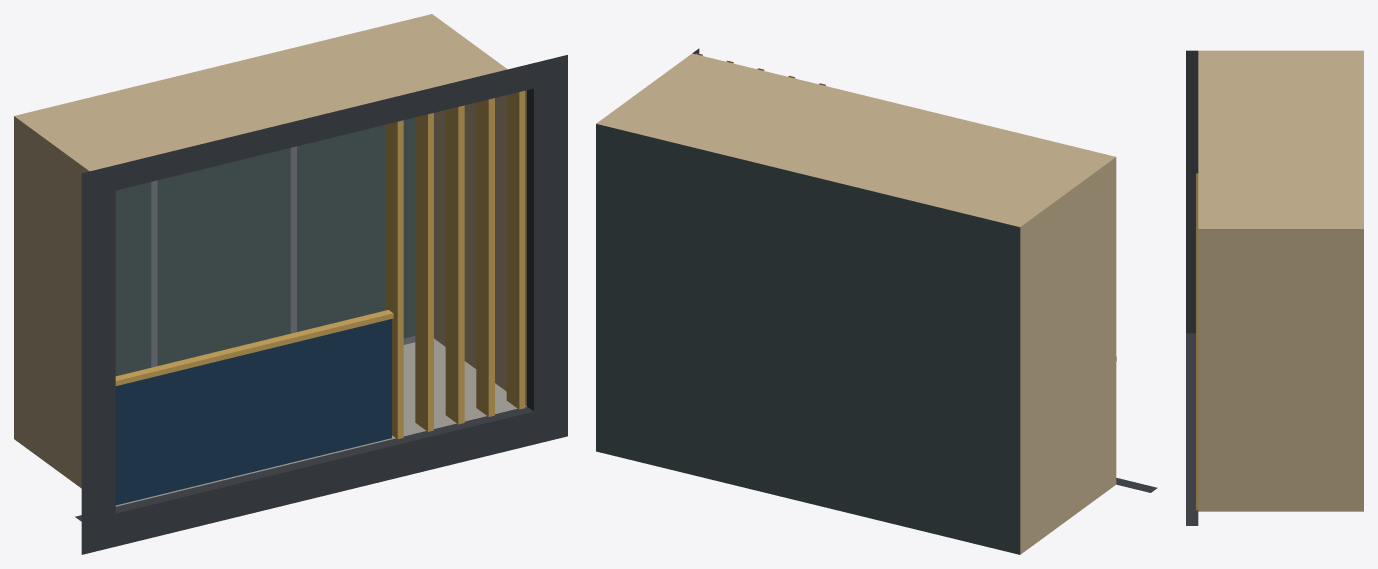
Rendered from mid-w1.fbx.
3 renders of one model, left to right at view 1: azimuth 30°, elevation 25°; view 2: azimuth 150°, elevation 25°; view 3: azimuth 270°, elevation 25°, orthographic. The views are drawn at different scales.
Parts seen in each view (by area): view 1: a2019/750/mid-w1; view 2: a2019/750/mid-w1; view 3: a2019/750/mid-w1.
Part boxes in pixels (<box>): a2019/750/mid-w1: <box>14,14,567,554</box>; a2019/750/mid-w1: <box>596,48,1157,554</box>; a2019/750/mid-w1: <box>1186,50,1363,525</box>.
Bounding box in the file's own units: 4 × 3 × 1.45.
